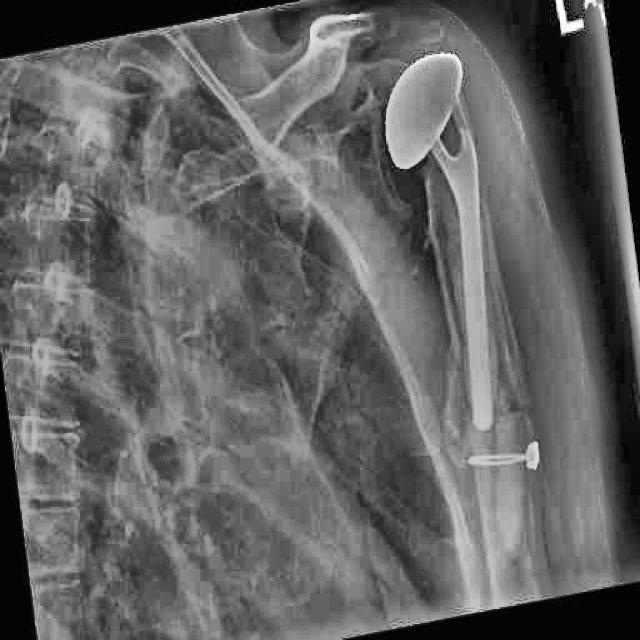shoulder fracture: (491, 362, 549, 443)
